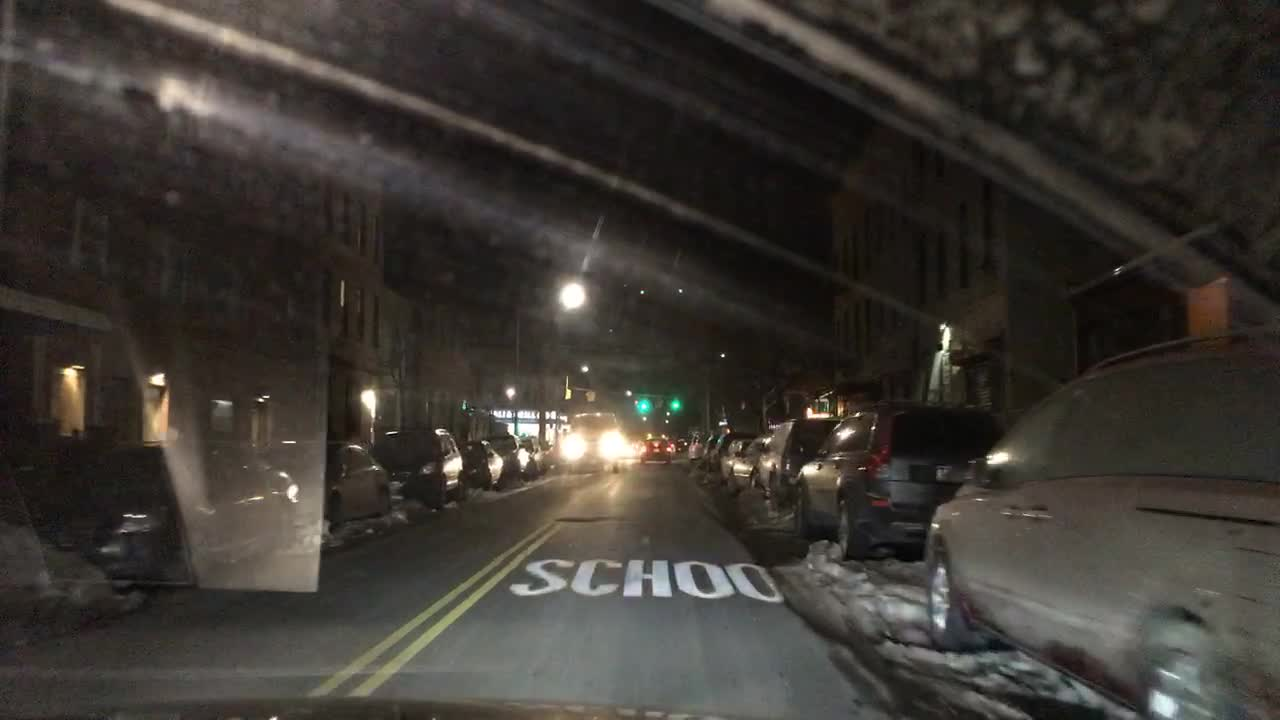car: (923, 320, 1279, 719), (29, 436, 297, 586), (789, 401, 1004, 563), (266, 435, 395, 520), (368, 422, 467, 509), (751, 415, 837, 503), (565, 412, 619, 476), (729, 430, 773, 493), (459, 439, 503, 489), (703, 428, 754, 471), (486, 430, 528, 477), (719, 439, 752, 484), (638, 432, 673, 466), (519, 435, 546, 479), (695, 432, 719, 469), (685, 432, 702, 462), (538, 442, 555, 469), (671, 435, 685, 454)
traffic light: (670, 393, 681, 410), (638, 395, 646, 413)
traffic sign: (715, 415, 729, 428)
